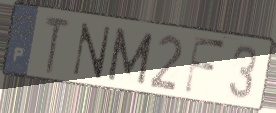2: (148, 32, 186, 94)
3: (227, 42, 261, 103)
F: (181, 34, 228, 98)
M: (104, 25, 156, 87)
N: (70, 20, 114, 81)
T: (42, 13, 73, 77)
